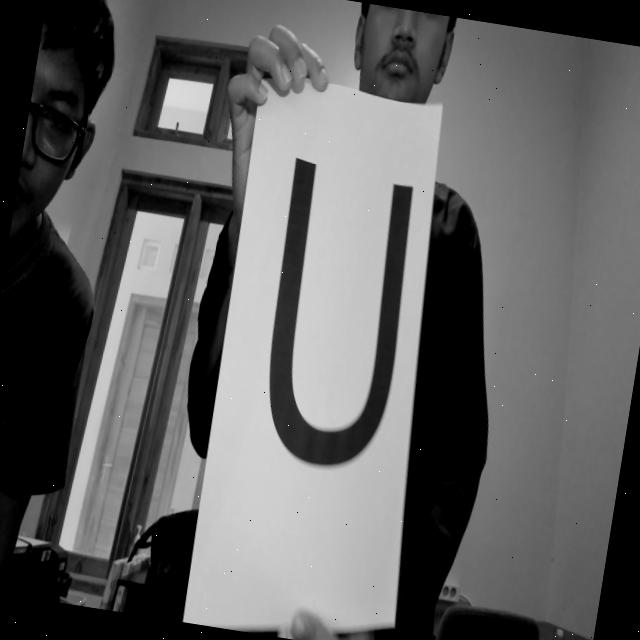u: (228, 126, 444, 504)
